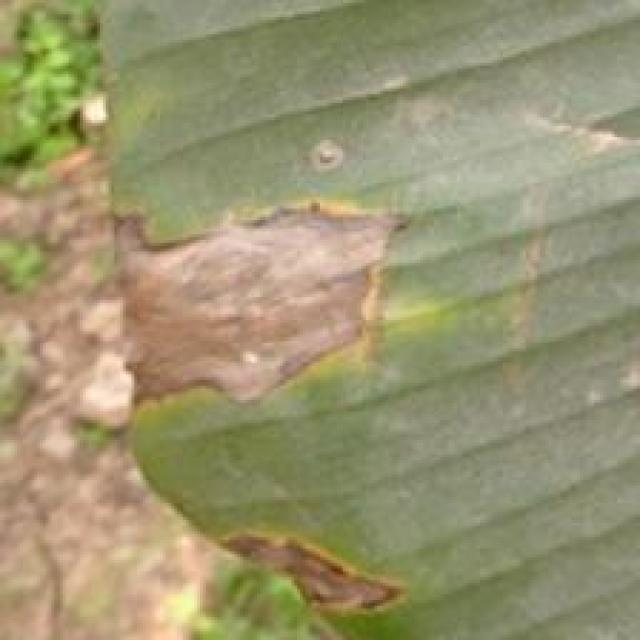Bacterial_spot: (108, 189, 434, 426), (199, 502, 419, 623), (517, 91, 640, 166), (507, 183, 554, 370), (301, 128, 349, 190)
